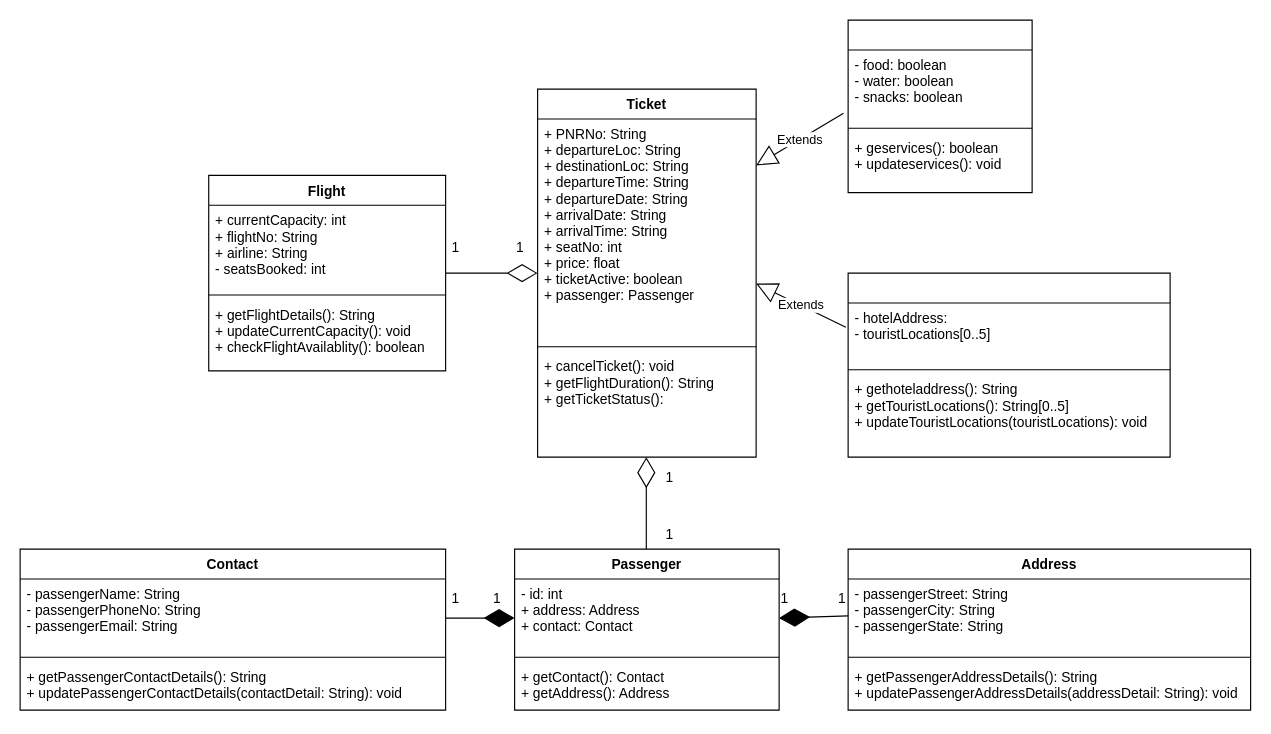
This 1271x734 diagram has some shape labels left out. Here are the shapes that lost their labels. From the top down, the box of each, then its label:
(847, 19, 1032, 193): RegularTicket
(847, 272, 1170, 457): TouristTicket
